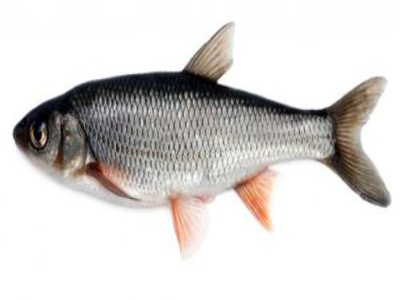rohu: (8, 21, 395, 257)
